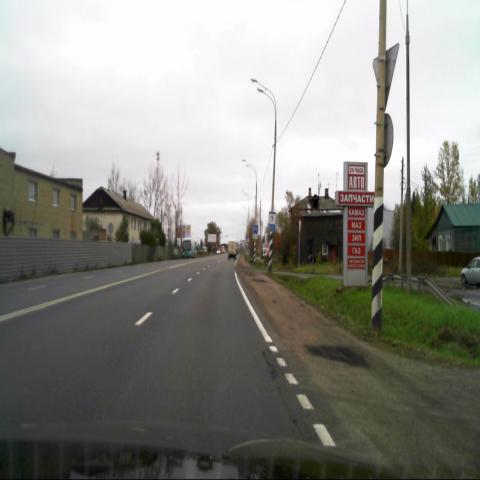7_7: (268, 211, 276, 231)
